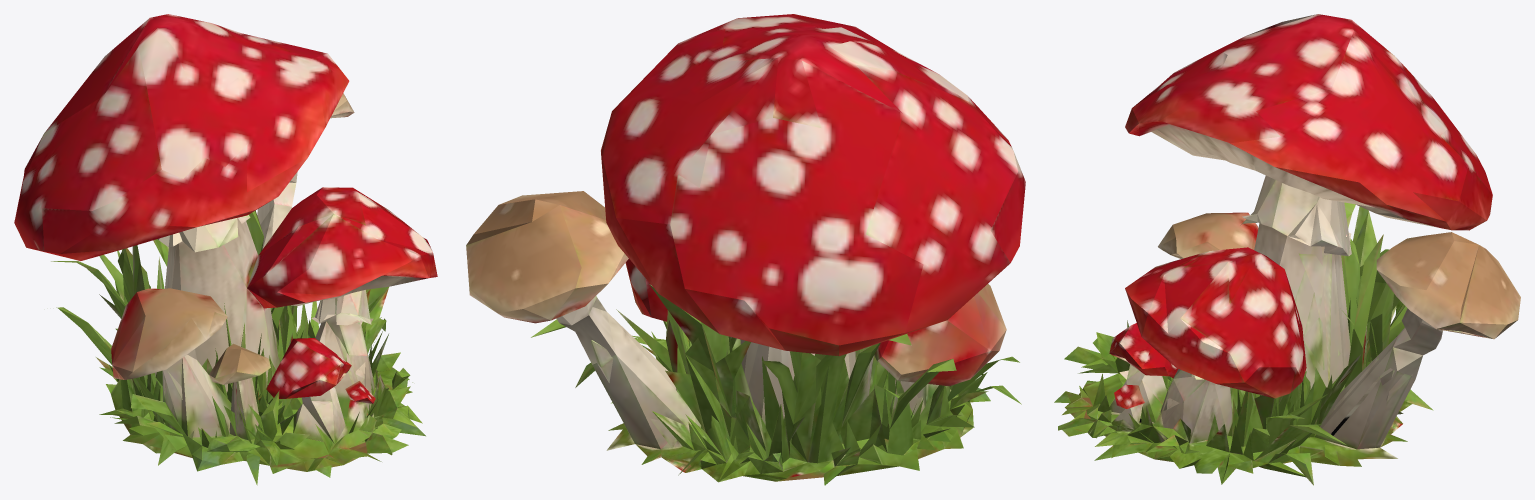
File: forest_mushrooms.glb
The picture shows the model from 3 angles, left to right: view 1: azimuth 30°, elevation 25°; view 2: azimuth 150°, elevation 25°; view 3: azimuth 270°, elevation 25°; orthographic projection. The views are drawn at different scales.
Parts seen in each view (by area): view 1: output_unwrapped; view 2: output_unwrapped; view 3: output_unwrapped.
Boxes of the visible parts, x1,y1,x2,y2 form: output_unwrapped: (14,14,437,485); output_unwrapped: (466,14,1025,485); output_unwrapped: (1054,14,1520,485).
Size of the model in its own units: 1.77 by 1.62 by 1.84.
Materials: 1 (1 with a texture image).
